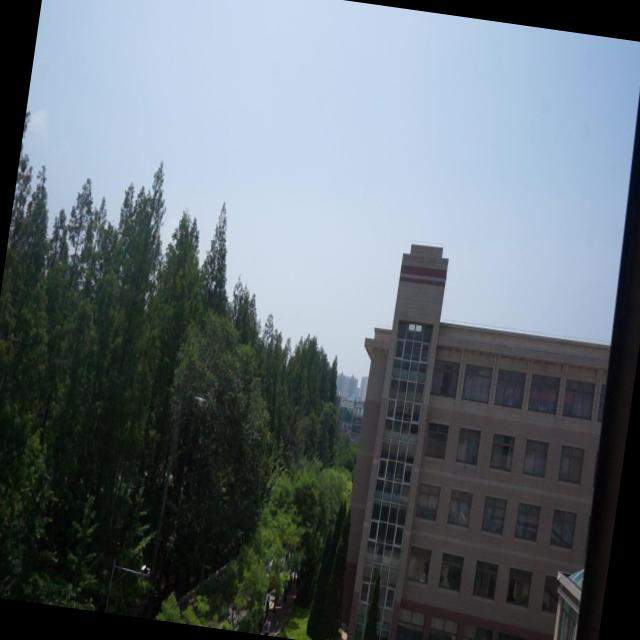drone: (192, 391, 210, 408)
